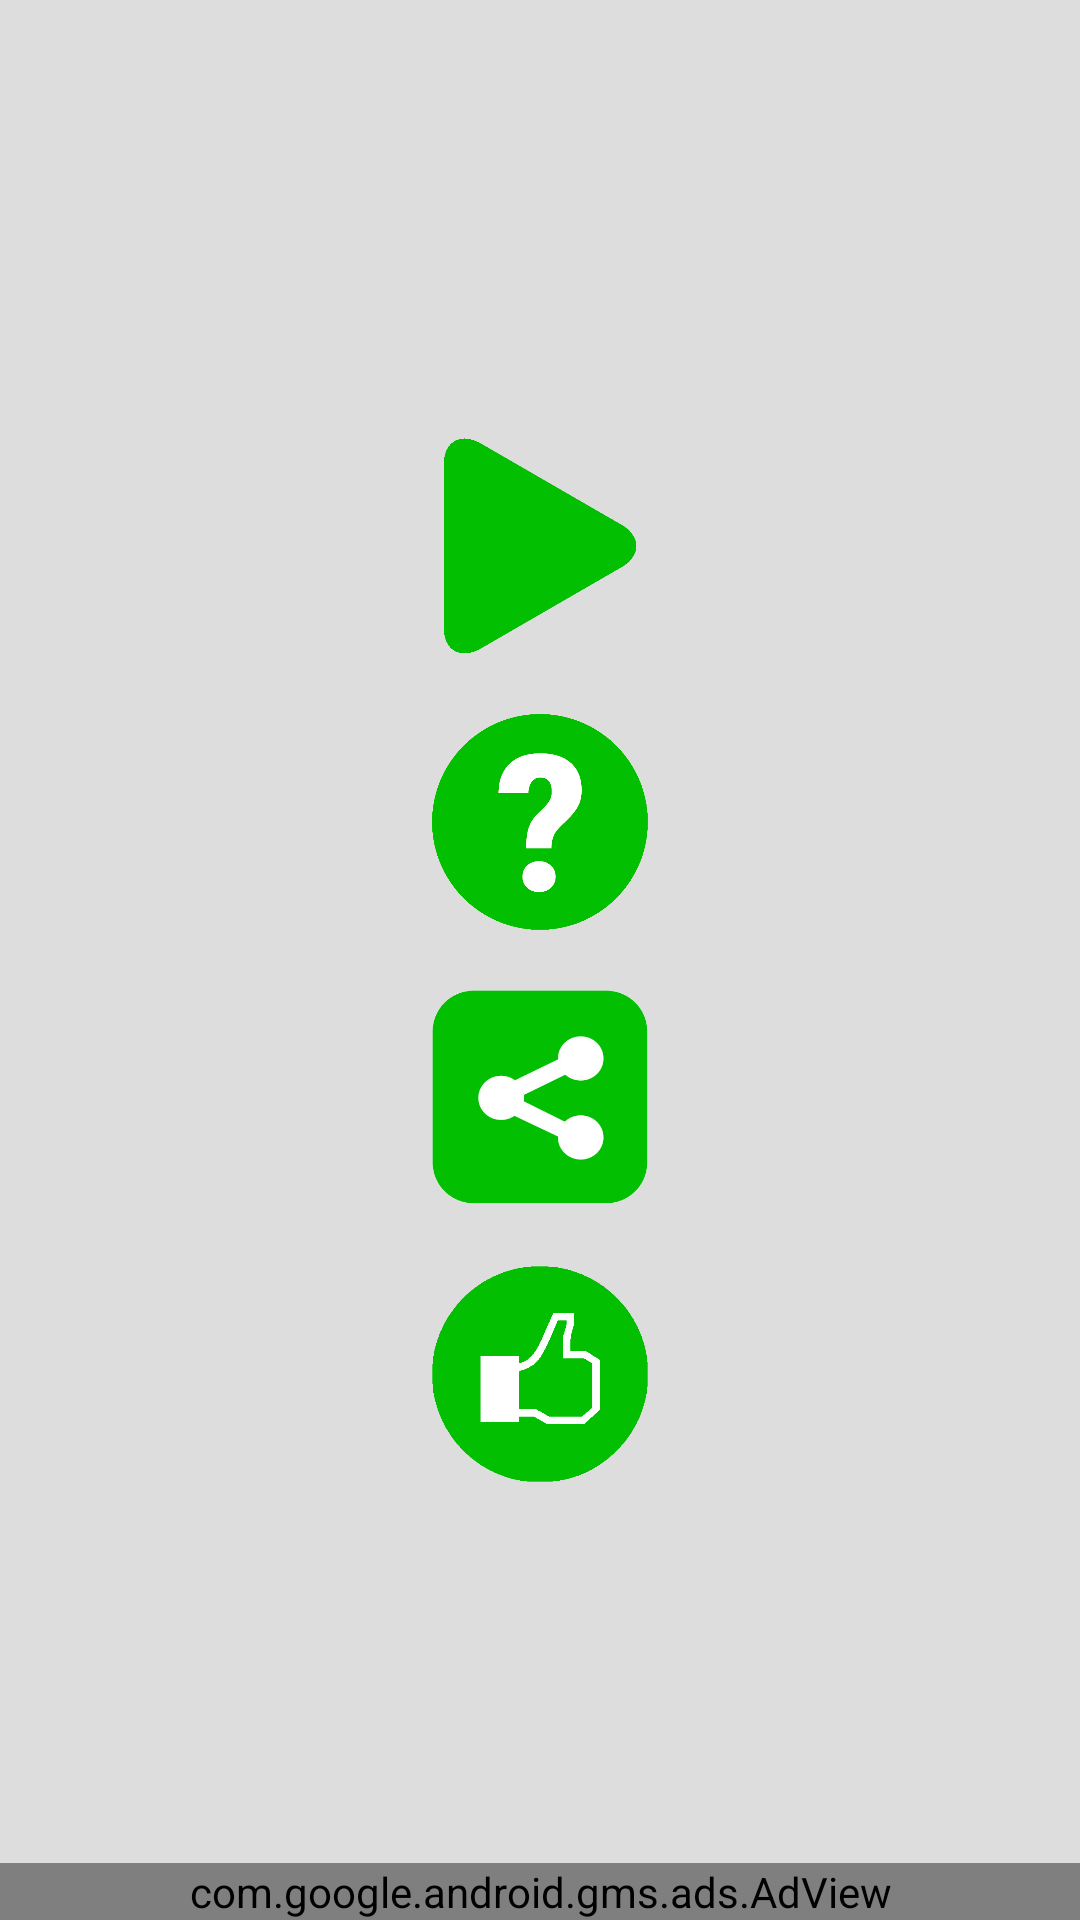

Point at icon controls on the screen. Image size 1080px x 1920px, points as (x,y).
howto: (540,822)
rate: (540,1374)
share: (540,1096)
start: (540,545)
